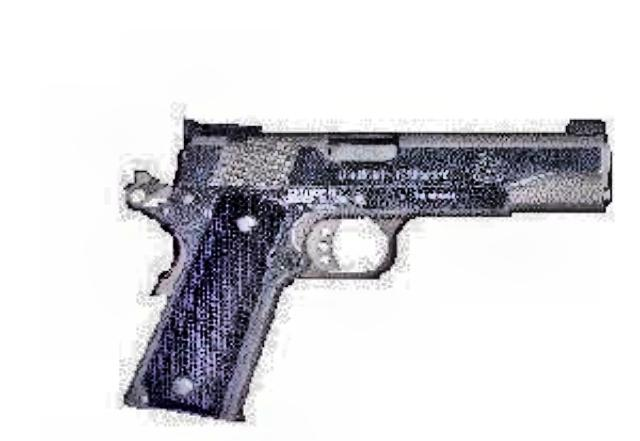pistol: (118, 116, 614, 414)
